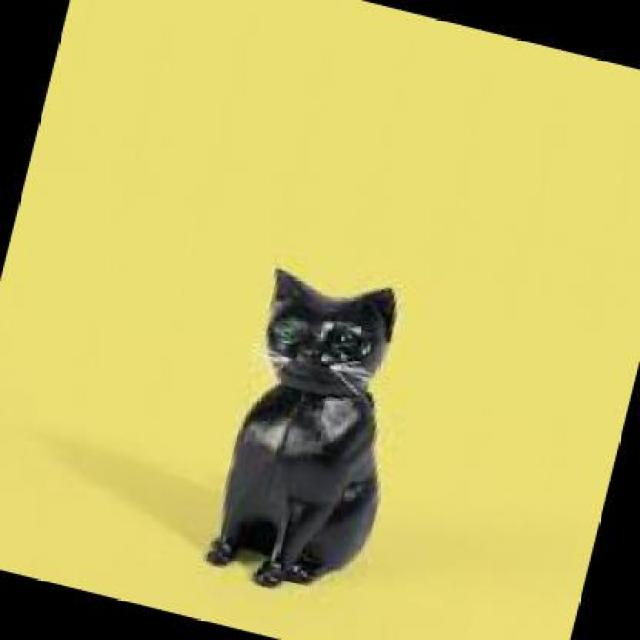animals: (183, 242, 440, 613)
